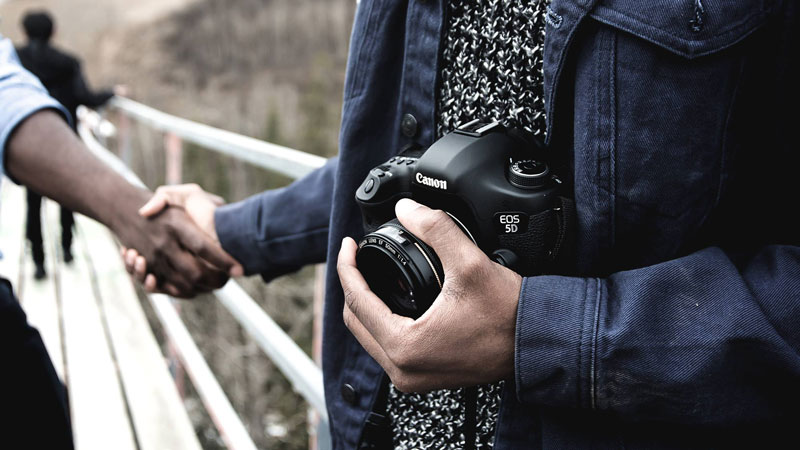camera: (360, 120, 561, 342)
